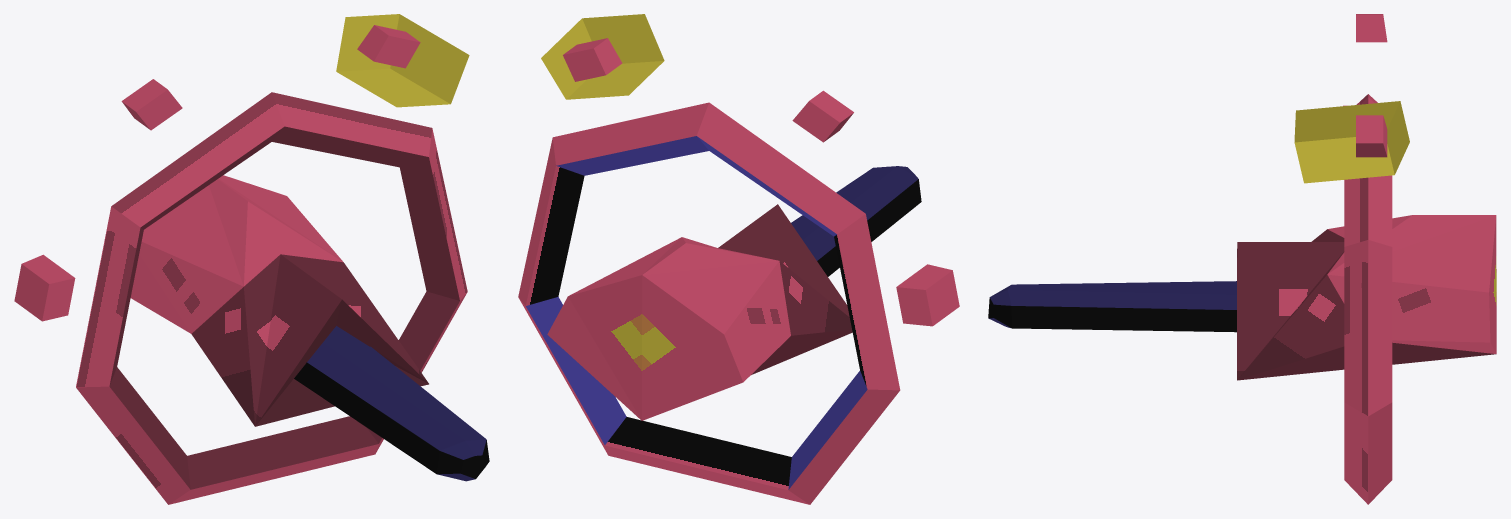
Rendered from gamilon_mini.glb.
3 renders of one model, left to right at view 1: azimuth 30°, elevation 25°; view 2: azimuth 150°, elevation 25°; view 3: azimuth 270°, elevation 25°, orthographic. The views are drawn at different scales.
Parts seen in each view (by area): view 1: Canonn; view 2: Canonn; view 3: Canonn.
Part boxes in pixels (bbox=[...]): Canonn: bbox=[14, 14, 489, 504]; Canonn: bbox=[518, 14, 959, 504]; Canonn: bbox=[988, 14, 1496, 504].
Size of the model in its own units: 2.86 by 2.66 by 3.08.
1 material, 1 textured.
